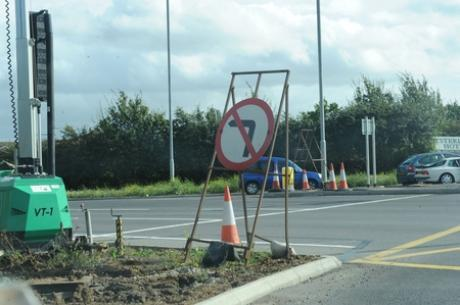no_left_turn: (214, 97, 274, 168)
